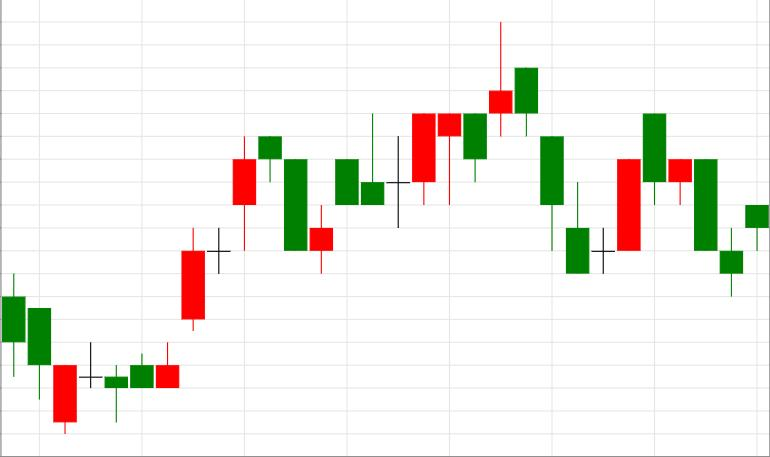evening_star_fall: (156, 136, 308, 389)
shooting_star_fall: (386, 22, 512, 228)
three_black_crows_fall: (386, 22, 590, 274)
